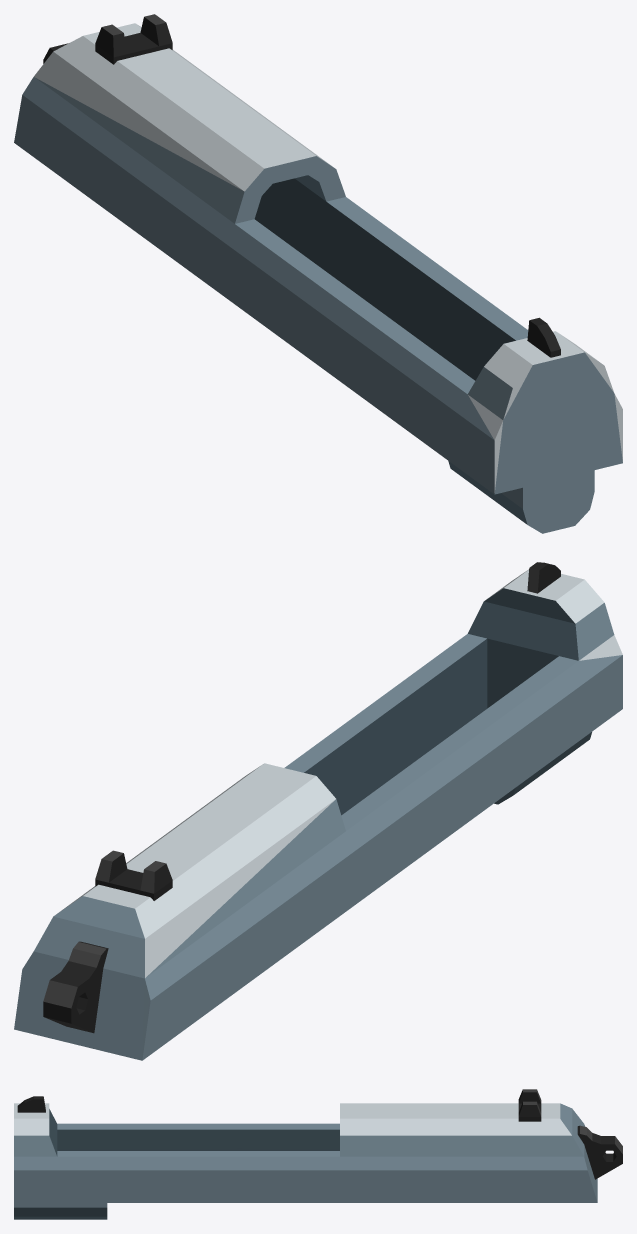
The model's file is slider.fbx.
3 renders of one model, top to bottom at view 1: azimuth 30°, elevation 25°; view 2: azimuth 150°, elevation 25°; view 3: azimuth 270°, elevation 25°, orthographic. The views are drawn at different scales.
Parts seen in each view (by area): view 1: handgun_4_slider; view 2: handgun_4_slider; view 3: handgun_4_slider.
Boxes of the visible parts, box(x1,y1,x2,y2) form: handgun_4_slider: box(14, 14, 622, 533); handgun_4_slider: box(14, 562, 622, 1060); handgun_4_slider: box(14, 1089, 622, 1219).
Bounding box in the file's own units: 2.91 × 4.21 × 19.71.
Materials: 1 (1 with a texture image).
